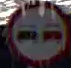No overtake: (4, 1, 69, 63)
